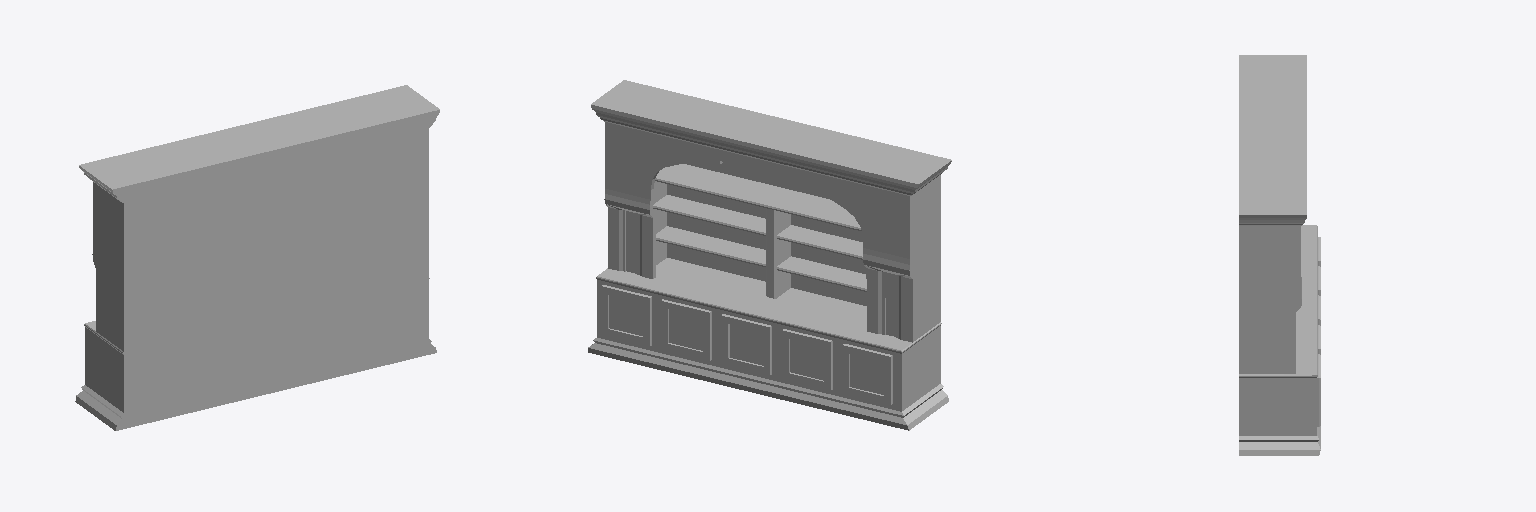
File: cabinet.obj
The picture shows the model from 3 angles: view 1: azimuth 30°, elevation 25°; view 2: azimuth 150°, elevation 25°; view 3: azimuth 270°, elevation 25°; orthographic projection.
Parts seen in each view (by area): view 1: mesh; view 2: mesh; view 3: mesh.
Boxes of the visible parts, box(x1,y1,x2,y2) form: mesh: box(75, 85, 439, 430); mesh: box(588, 80, 951, 430); mesh: box(1239, 55, 1320, 455).
Size of the model in its own units: 162 by 114 by 34.89.